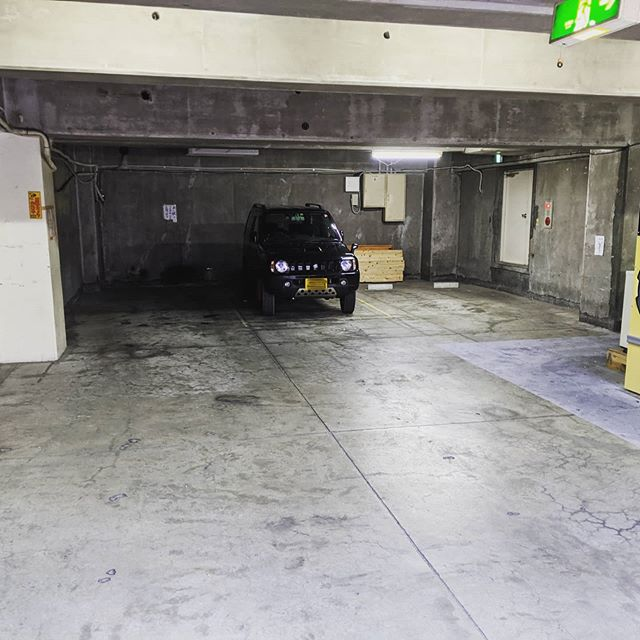car: (236, 196, 377, 319)
door: (501, 162, 536, 267)
